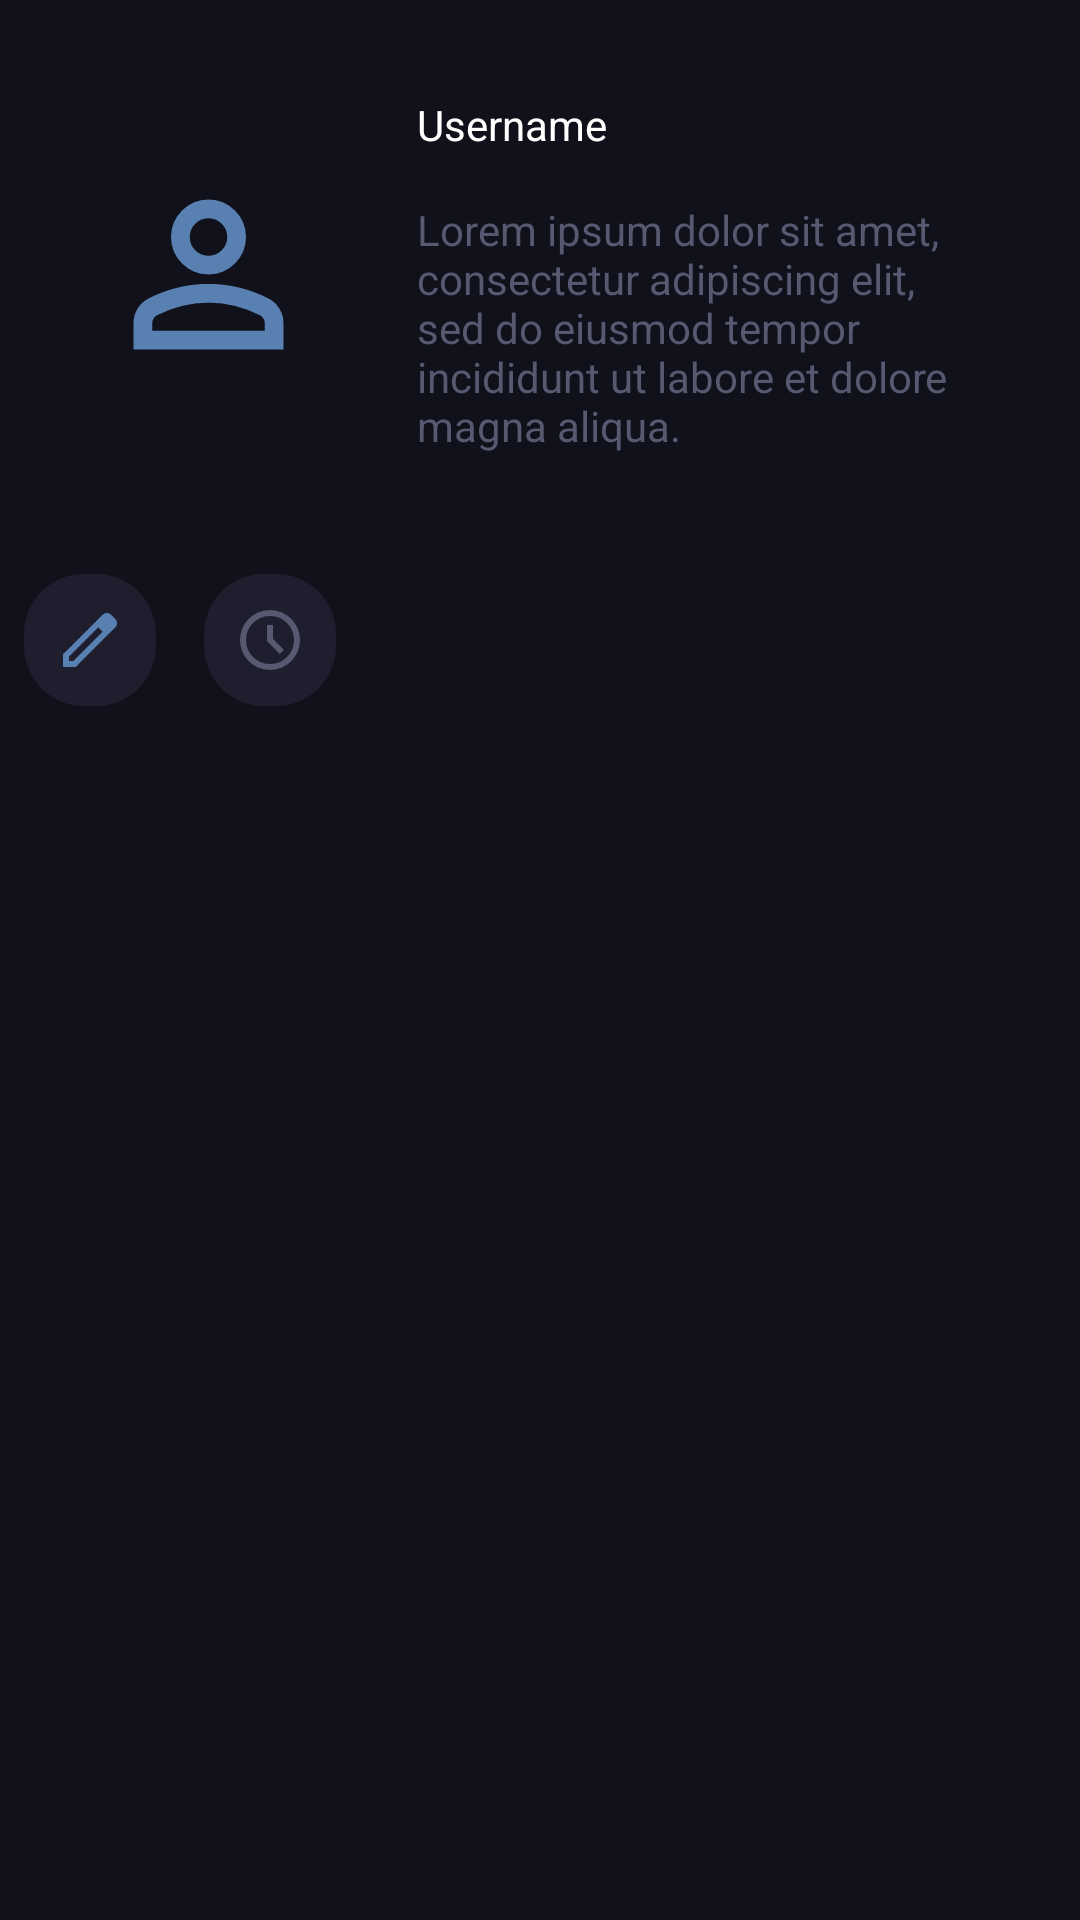

Icons on this 1080 x 1920 Android screen, each with the point to tap as [x,y]:
clock: [270,640]
edit: [90,640]
profile: [208,274]
